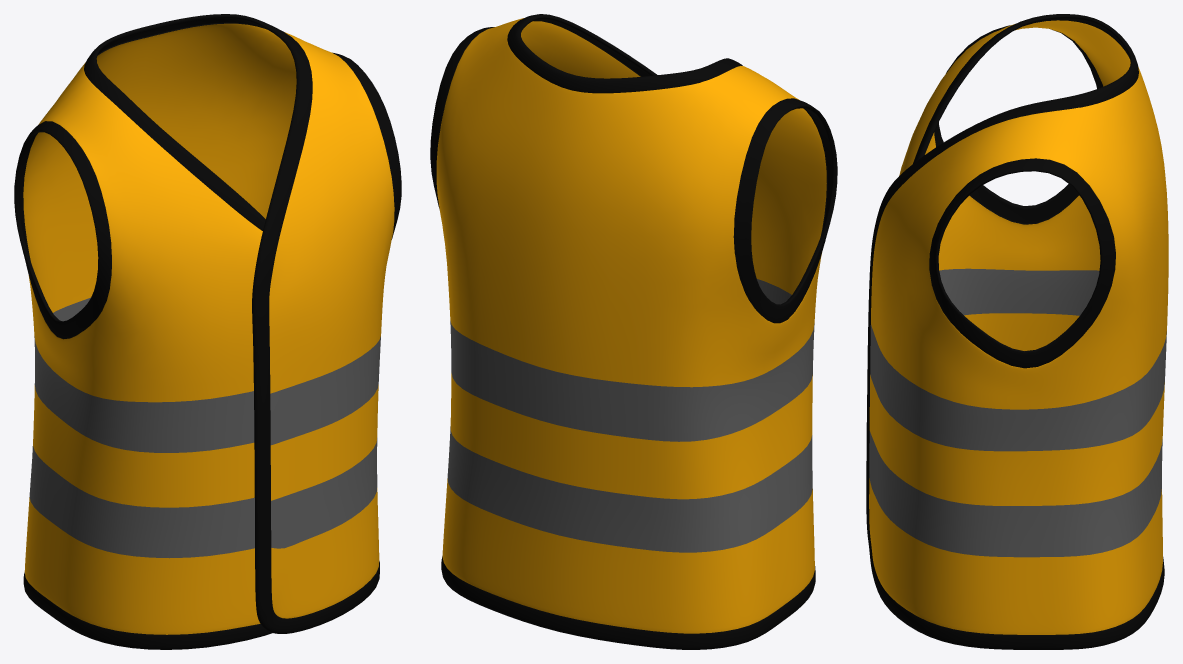
Rendered from 安全背心.FBX.
3 views of the same model, side by side, from view 1: azimuth 30°, elevation 25°; view 2: azimuth 150°, elevation 25°; view 3: azimuth 270°, elevation 25° (orthographic). The views are drawn at different scales.
Visible parts, largest first — view 1: 背心; view 2: 背心; view 3: 背心.
Boxes of the visible parts, x1,y1,x2,y2 form: 背心: (14, 14, 401, 649); 背心: (430, 14, 837, 649); 背心: (866, 14, 1168, 649).
Size of the model in its own units: 36.78 by 60.32 by 31.6.
